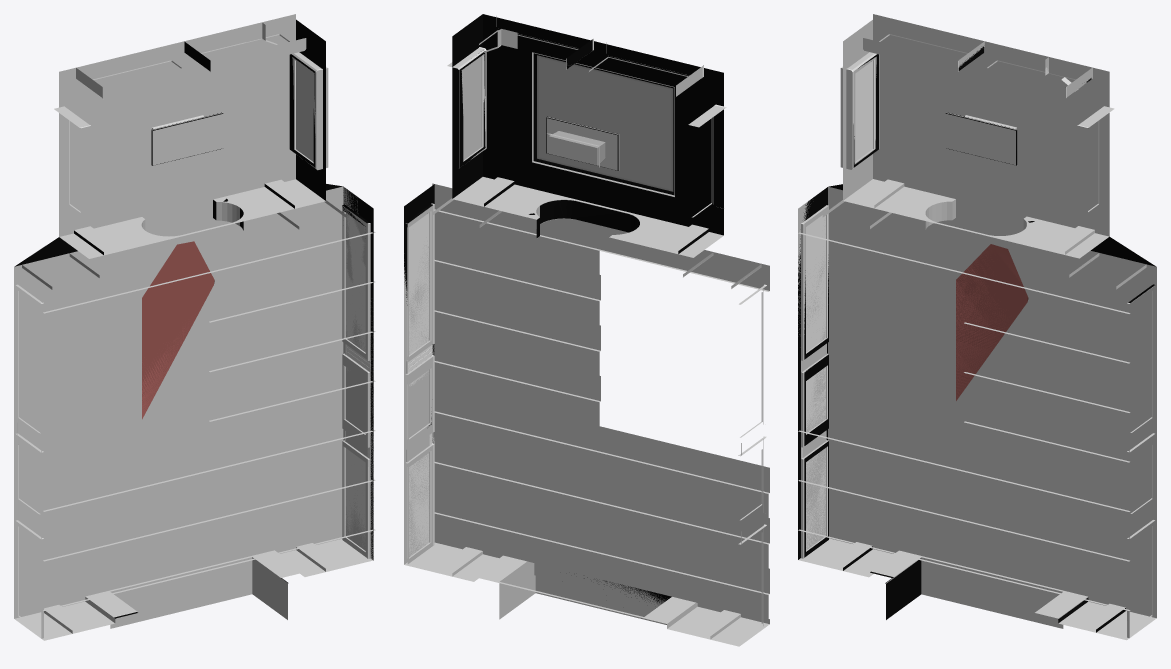
Rendered from vault_room.glb.
The picture shows the model from 3 angles, left to right: view 1: azimuth 30°, elevation 25°; view 2: azimuth 150°, elevation 25°; view 3: azimuth 330°, elevation 25°; orthographic projection. The views are drawn at different scales.
Visible parts, largest first — view 1: c_mesh_vault, g_vault, g_carpet_burn, g_safetybox, dm_metal, g_carpet; view 2: dm_marble, g_vault, c_mesh_vault, g_safetybox, dm_metal; view 3: c_mesh_vault, g_safetybox, g_vault, g_carpet_burn, dm_metal, g_carpet, dm_marble.
Boxes of the visible parts, x1,y1,x2,y2 form: c_mesh_vault: (14,14,375,640); g_vault: (15,19,373,618); g_carpet_burn: (142,244,214,409); g_safetybox: (18,34,370,615); dm_metal: (41,26,370,558); g_carpet: (142,241,200,419); dm_marble: (404,52,769,625); g_vault: (404,14,761,624); c_mesh_vault: (404,29,769,646); g_safetybox: (406,16,766,625); dm_metal: (407,37,762,461); c_mesh_vault: (798,14,1156,640); g_safetybox: (801,34,1152,637); g_vault: (798,46,1155,632); g_carpet_burn: (956,245,1028,400); dm_metal: (801,38,1152,617); g_carpet: (956,244,1023,400); dm_marble: (798,20,1146,618).
Bounding box in the file's own units: 14 × 23.13 × 2.74.
